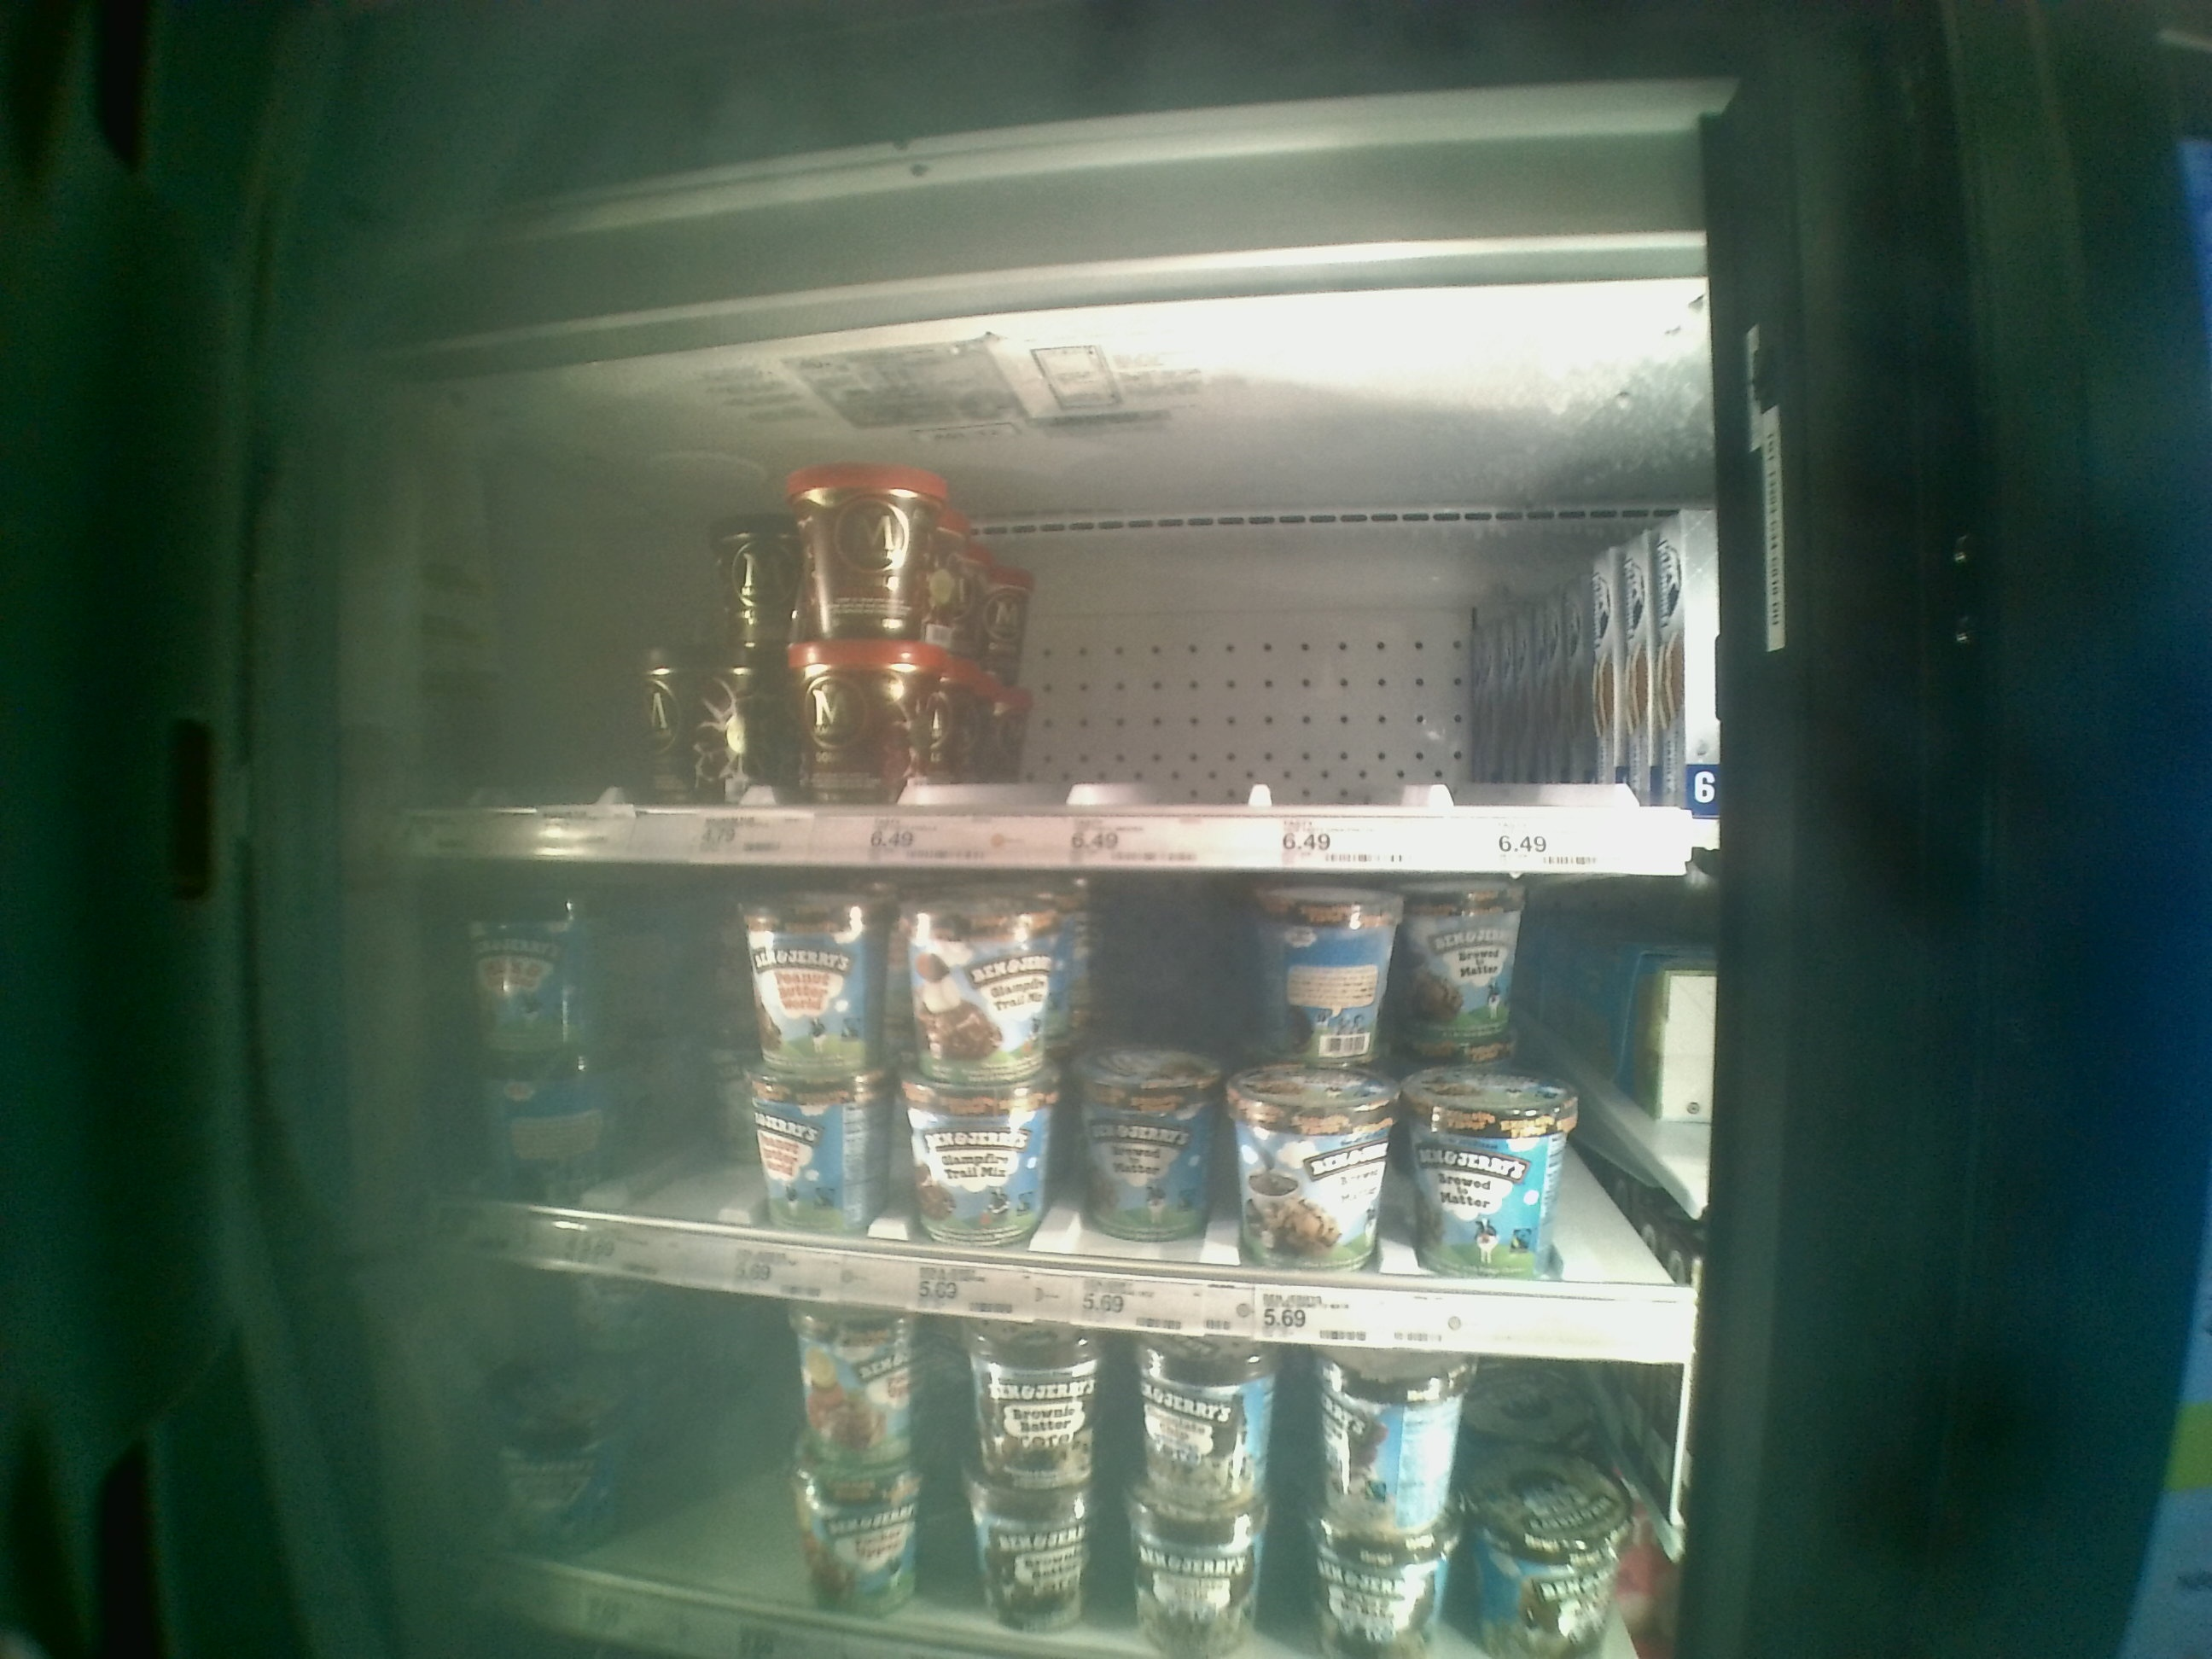shelf: (427, 868, 1707, 1368), (421, 397, 1702, 868)
